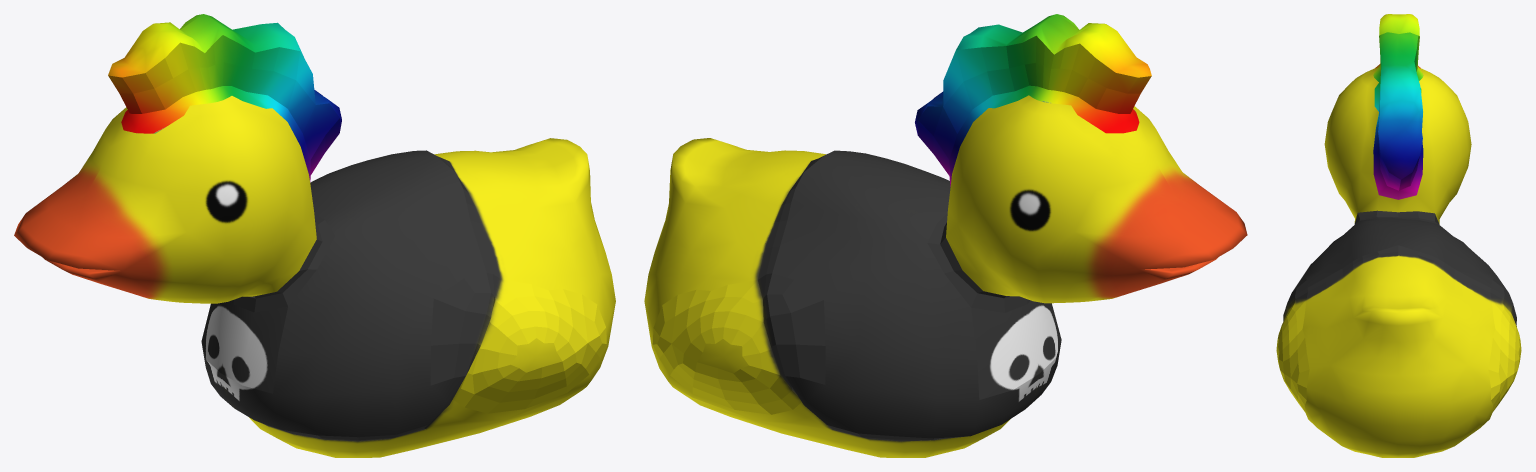
The model's file is duckpunk.FBX.
3 views of the same model, side by side, from view 1: azimuth 30°, elevation 25°; view 2: azimuth 150°, elevation 25°; view 3: azimuth 270°, elevation 25° (orthographic). The views are drawn at different scales.
Parts seen in each view (by area): view 1: Duck; view 2: Duck; view 3: Duck.
Boxes of the visible parts, x1,y1,x2,y2 form: Duck: [14, 14, 615, 457]; Duck: [644, 14, 1247, 457]; Duck: [1276, 14, 1521, 457].
Size of the model in its own units: 184 by 138 by 96.63.
